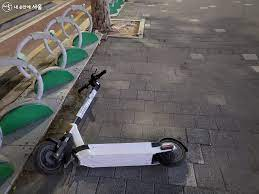fallin_kick: (33, 69, 187, 174)
